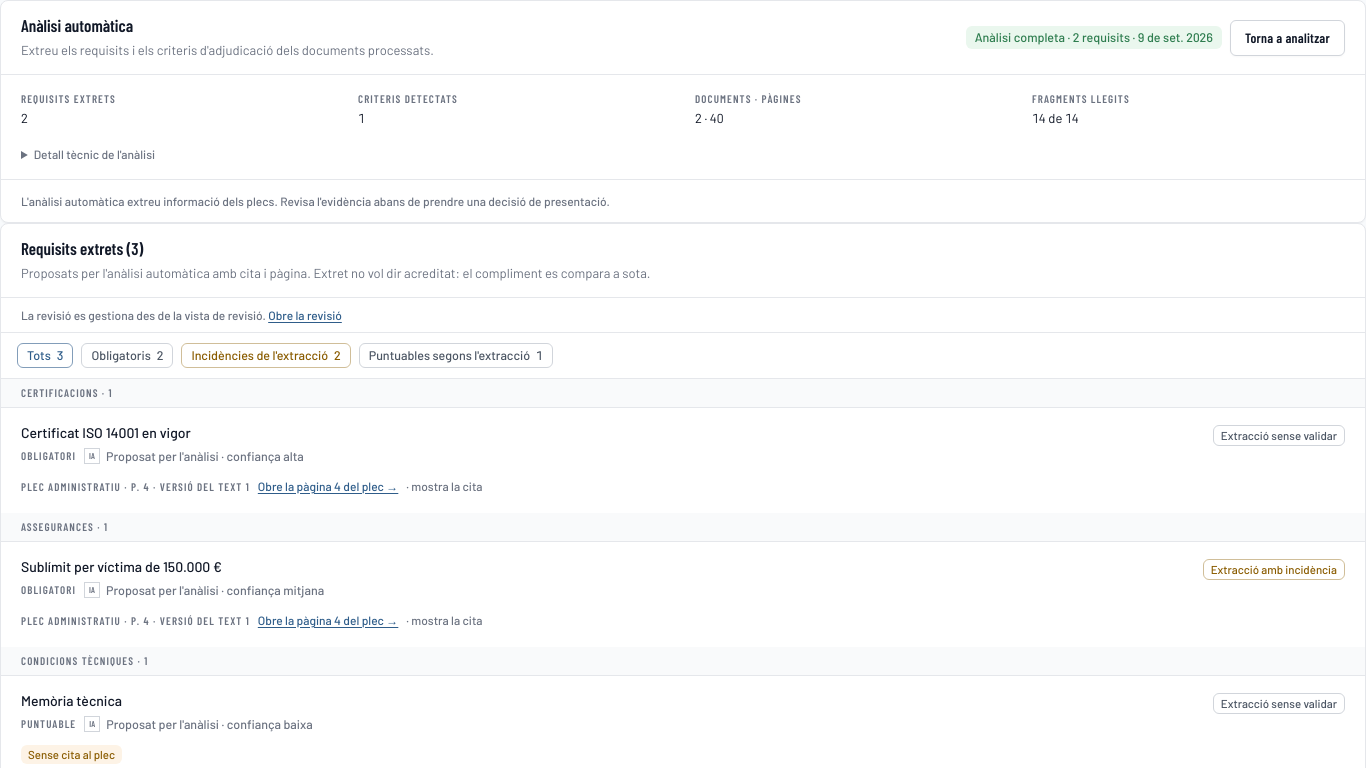
Test: RequirementAnalysisSection › amb anàlisi: pastilla d'estat real, requisits amb cita, pàgina i atribució IA; cap codi intern
This screenshot has width=1366, height=768.
Check: the text "Certificat ISO 14001 en vigor" is shown, box [21,424,191,441]
Check: the text "IA" next to "Proposat per l'anàlisi · confiança alta" is shown, box [84,448,100,464]
Note: Filtres de recompte: els que demanen revisió es poden aïllar.
Click the button "Incidències de l'extracció 2".
click(266, 355)  # box [181,343,351,368]
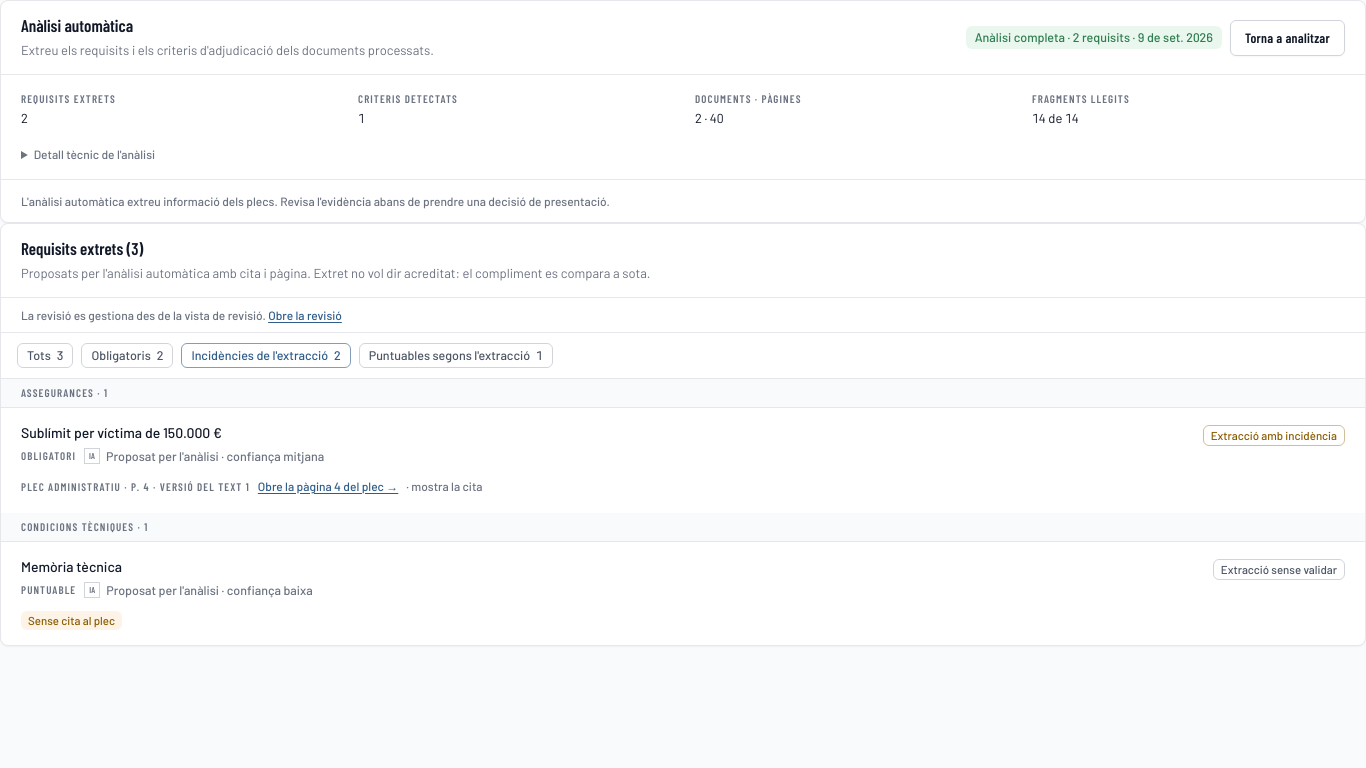
Check: the text "Sublímit per víctima de 150.000 €" is shown, box [21,424,222,441]
Check: the text "Certificat ISO 14001 en vigor" is gone
